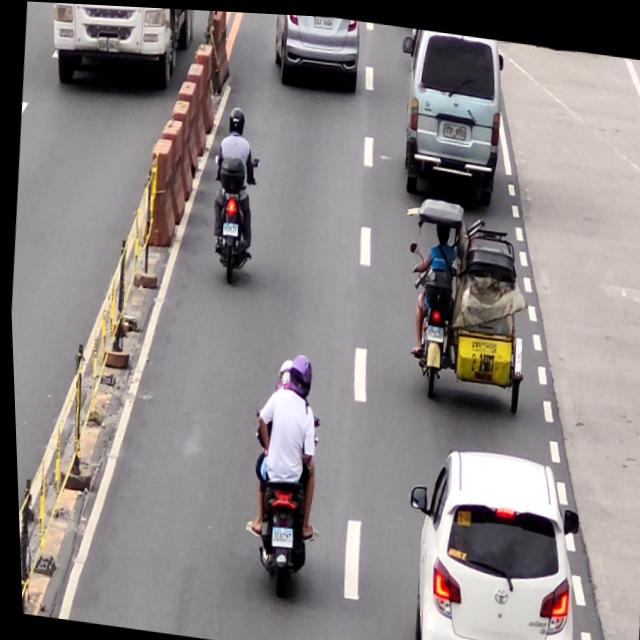Car: (389, 435, 586, 640), (388, 22, 508, 201), (269, 11, 363, 92)
License-Plate: (266, 522, 290, 545), (441, 118, 464, 135), (422, 319, 441, 338), (220, 218, 237, 234), (312, 13, 332, 26)
Motorcycle: (235, 401, 322, 603), (203, 146, 261, 283)
Tricycle: (395, 195, 536, 415)
